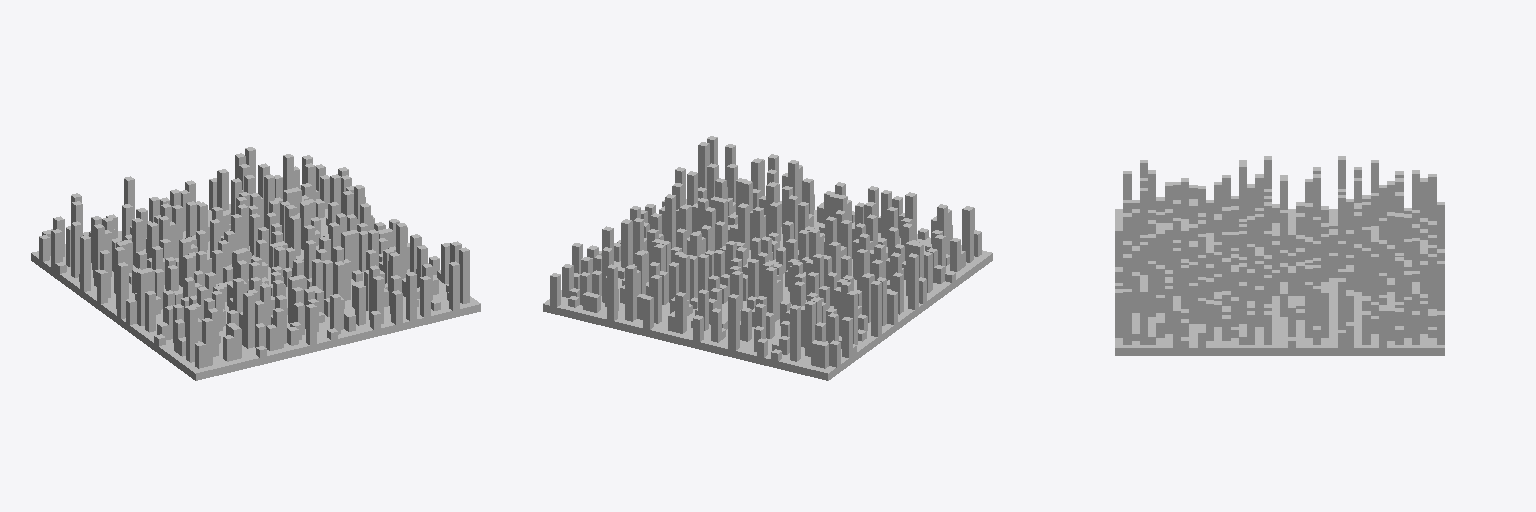
File: Grass.obj
The picture shows the model from 3 angles: view 1: azimuth 30°, elevation 25°; view 2: azimuth 150°, elevation 25°; view 3: azimuth 270°, elevation 25°; orthographic projection.
Visible parts, largest first — view 1: object 1; view 2: object 1; view 3: object 1.
Boxes of the visible parts, <box> form: object 1: <box>31,147,480,380</box>; object 1: <box>543,136,992,380</box>; object 1: <box>1115,156,1444,355</box>.
Bounding box in the file's own units: 4 × 0.8 × 4.